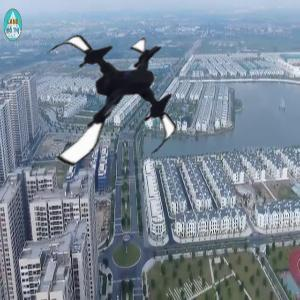drone: (30, 22, 187, 179)
